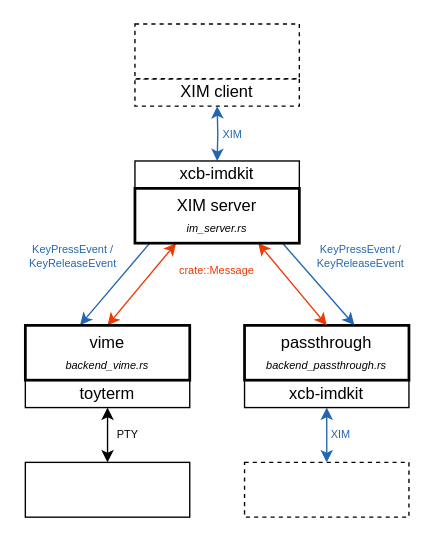
This 433x541 diagram has some shape labels left out. The centre of each missing label's shape, as x and y in pixels:
"Other XIM server (ibus, fcitx, etc.)" goes at (x=326, y=489).
"Vim" goes at (x=107, y=489).
"X11 Application" goes at (x=216, y=51).
